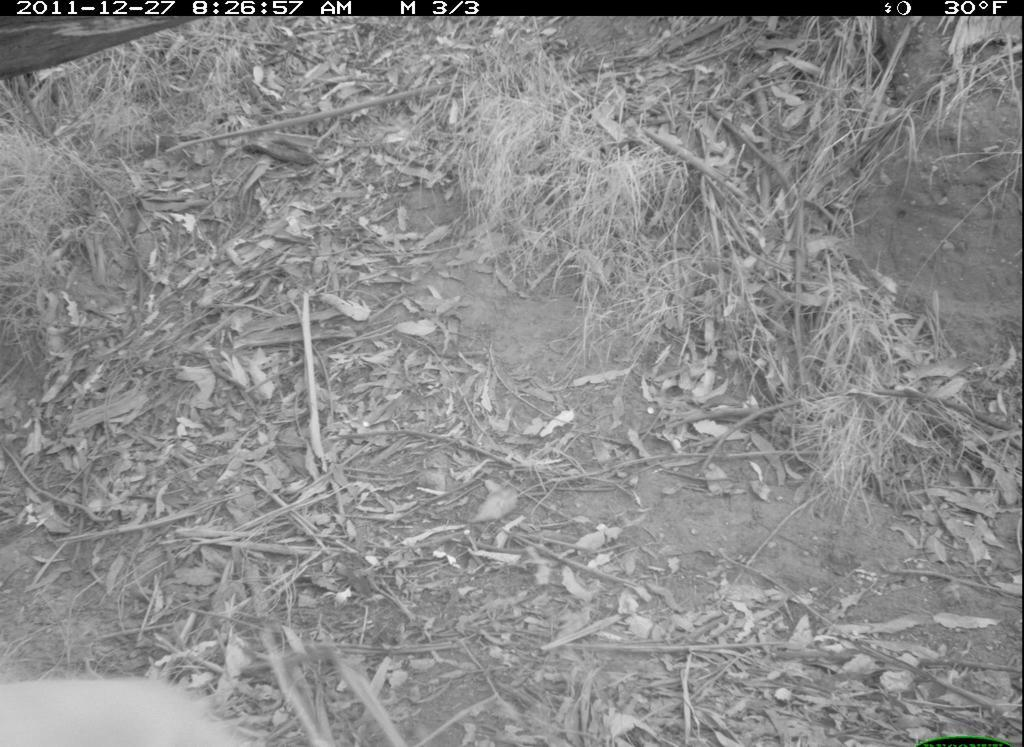dog: (1, 642, 285, 746)
